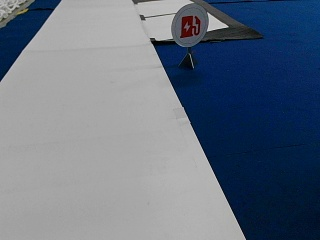battery: (171, 2, 208, 47)
